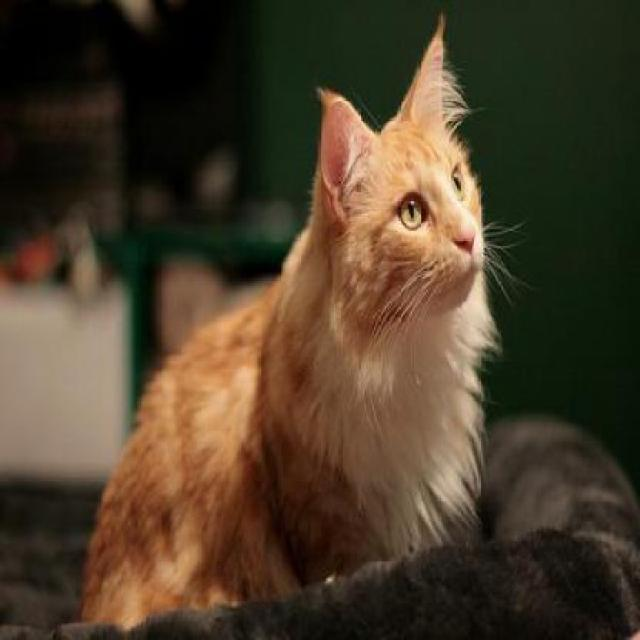cat: (86, 19, 492, 630)
